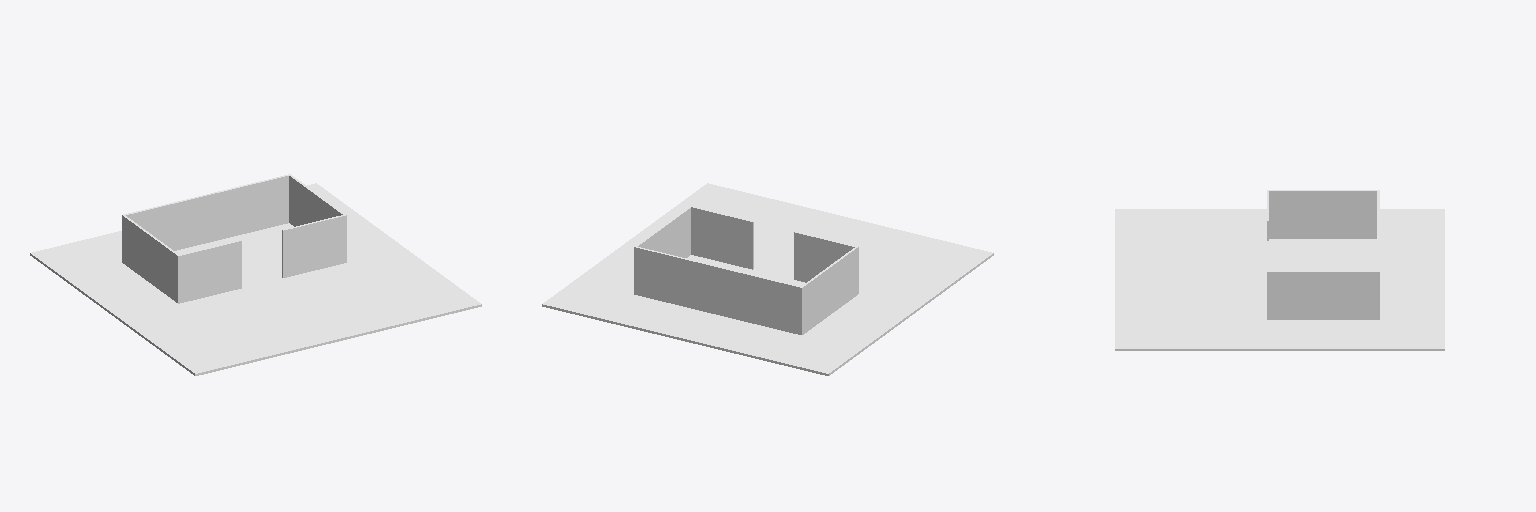
Rendered from fort.obj.
3 views of the same model, side by side, from view 1: azimuth 30°, elevation 25°; view 2: azimuth 150°, elevation 25°; view 3: azimuth 270°, elevation 25° (orthographic).
Parts seen in each view (by area): view 1: object 1; view 2: object 1; view 3: object 1.
Part boxes in pixels (left/top/right/bottom): object 1: left=30, top=174, right=481, bottom=375; object 1: left=542, top=183, right=993, bottom=375; object 1: left=1115, top=190, right=1444, bottom=350.
Bounding box in the file's own units: 12.6 × 2.1 × 12.6.